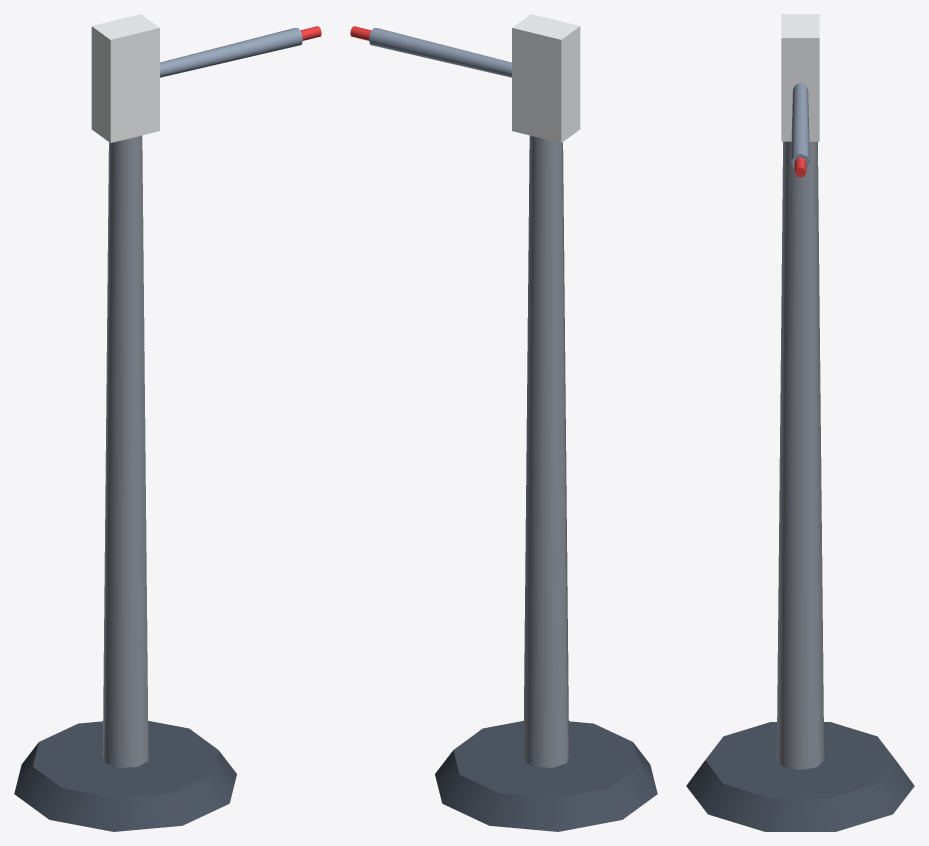
File: parametric-source.glb
The picture shows the model from 3 angles, left to right: view 1: azimuth 30°, elevation 25°; view 2: azimuth 150°, elevation 25°; view 3: azimuth 270°, elevation 25°; orthographic projection.
Parts seen in each view (by area): view 1: openclinxr.equipment.digital_thermometer_equipment.stand, openclinxr.equipment.digital_thermometer_equipment.base, openclinxr.equipment.digital_thermometer_equipment.device_bo, openclinxr.equipment.digital_thermometer_equipment.probe; view 2: openclinxr.equipment.digital_thermometer_equipment.stand, openclinxr.equipment.digital_thermometer_equipment.base, openclinxr.equipment.digital_thermometer_equipment.device_bo, openclinxr.equipment.digital_thermometer_equipment.probe; view 3: openclinxr.equipment.digital_thermometer_equipment.stand, openclinxr.equipment.digital_thermometer_equipment.base, openclinxr.equipment.digital_thermometer_equipment.device_bo, openclinxr.equipment.digital_thermometer_equipment.probe.
Part boxes in pixels (<box>): openclinxr.equipment.digital_thermometer_equipment.stand: <box>102,135,148,767</box>; openclinxr.equipment.digital_thermometer_equipment.base: <box>14,721,236,831</box>; openclinxr.equipment.digital_thermometer_equipment.device_bo: <box>91,14,159,142</box>; openclinxr.equipment.digital_thermometer_equipment.probe: <box>160,28,302,77</box>; openclinxr.equipment.digital_thermometer_equipment.stand: <box>523,135,569,767</box>; openclinxr.equipment.digital_thermometer_equipment.base: <box>435,721,657,831</box>; openclinxr.equipment.digital_thermometer_equipment.device_bo: <box>512,14,580,142</box>; openclinxr.equipment.digital_thermometer_equipment.probe: <box>369,28,511,77</box>; openclinxr.equipment.digital_thermometer_equipment.stand: <box>776,141,824,769</box>; openclinxr.equipment.digital_thermometer_equipment.base: <box>686,722,914,831</box>; openclinxr.equipment.digital_thermometer_equipment.device_bo: <box>781,14,819,141</box>; openclinxr.equipment.digital_thermometer_equipment.probe: <box>791,83,809,168</box>.
Bounding box in the file's own units: 0.3491 × 0.88 × 0.24.
